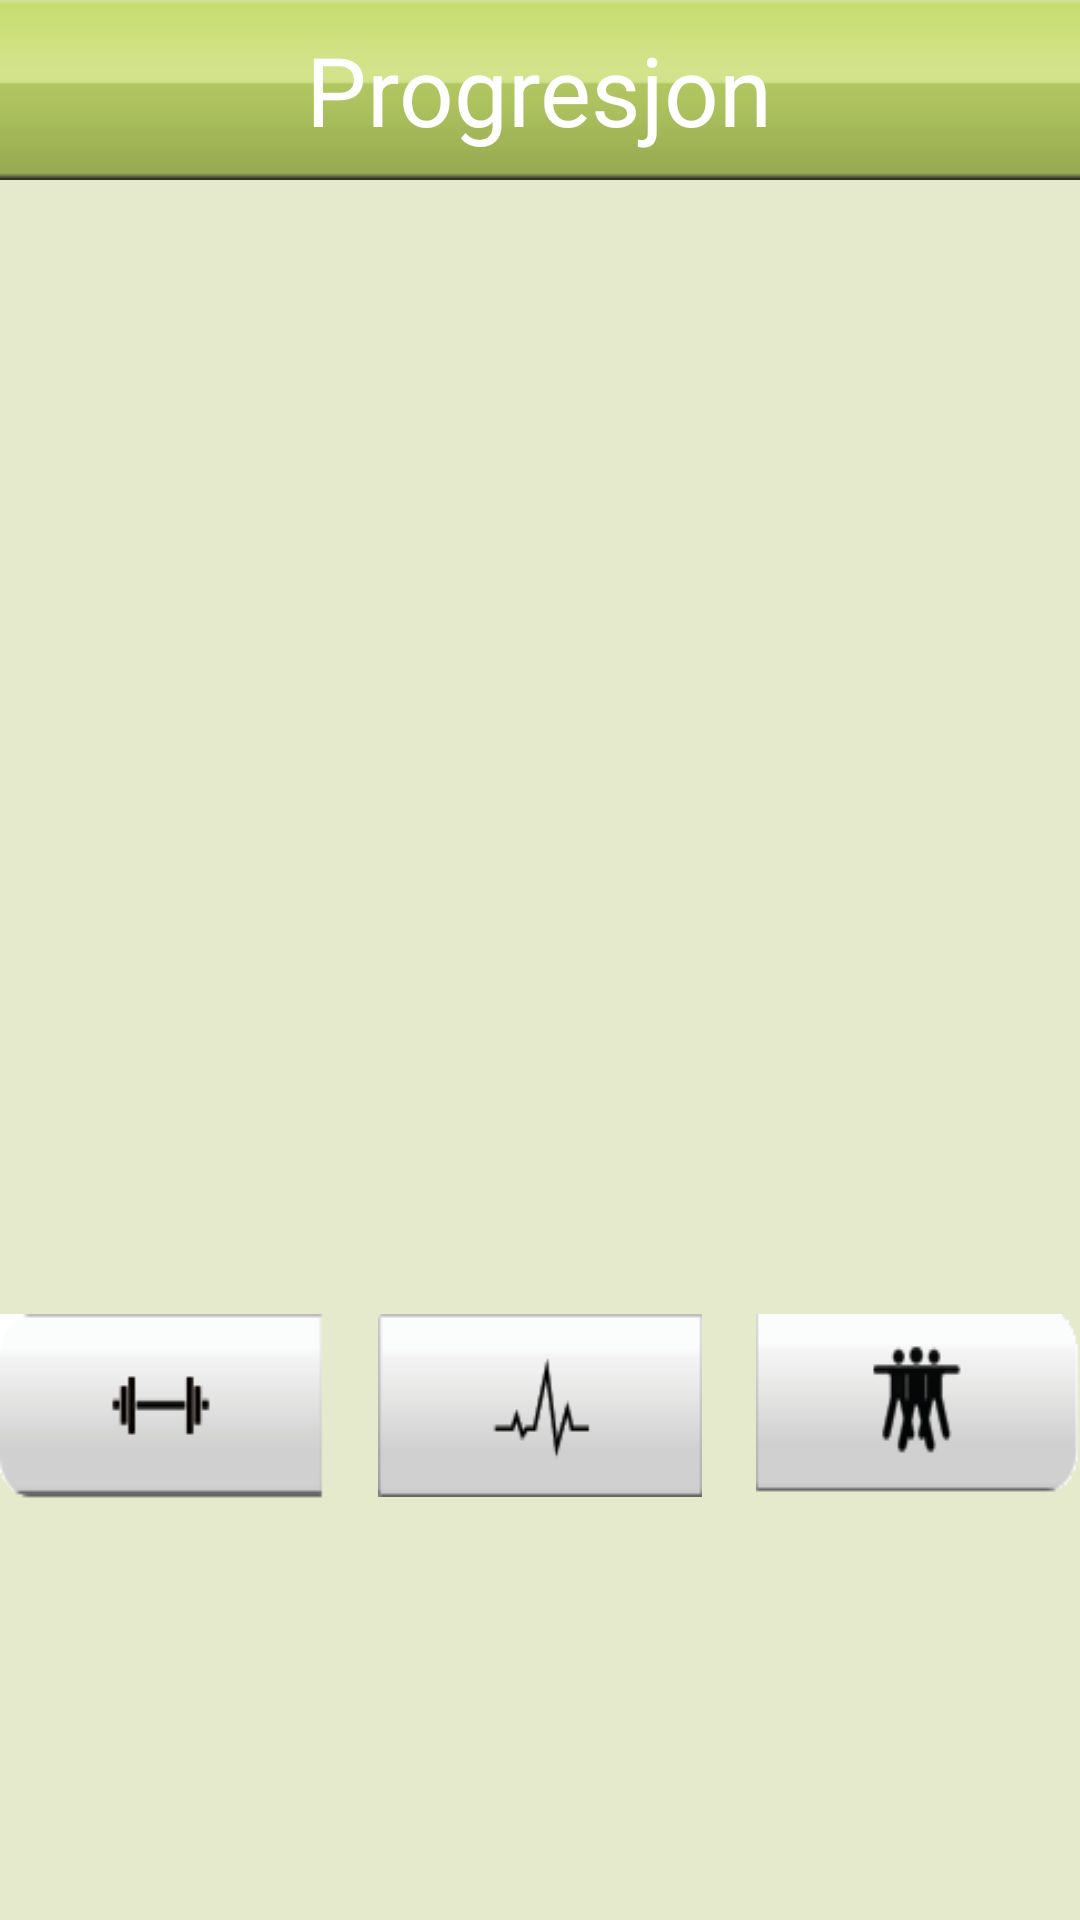

Point at icon controls on the screen. Image size 1080px x 1920px, points as point (x, y).
gruppe knapp: point (917, 1403)
kondis knapp: point (540, 1405)
styrke knapp: point (161, 1406)
